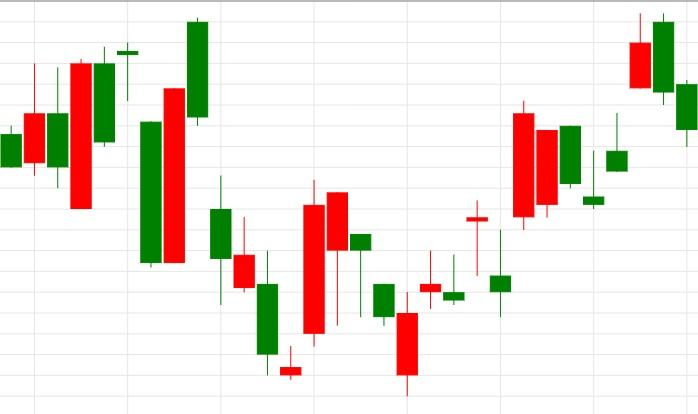bearish_engulfing_fall: (489, 13, 675, 318)
hanging_man_fall: (280, 180, 372, 381)
